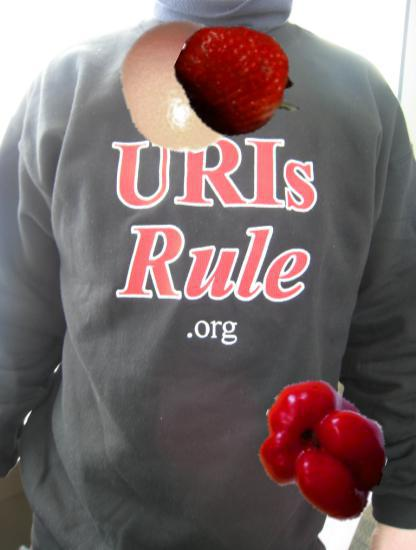Grapefruit: (115, 19, 251, 155)
Pepper: (258, 383, 389, 514)
Strawberry: (173, 16, 306, 149)
